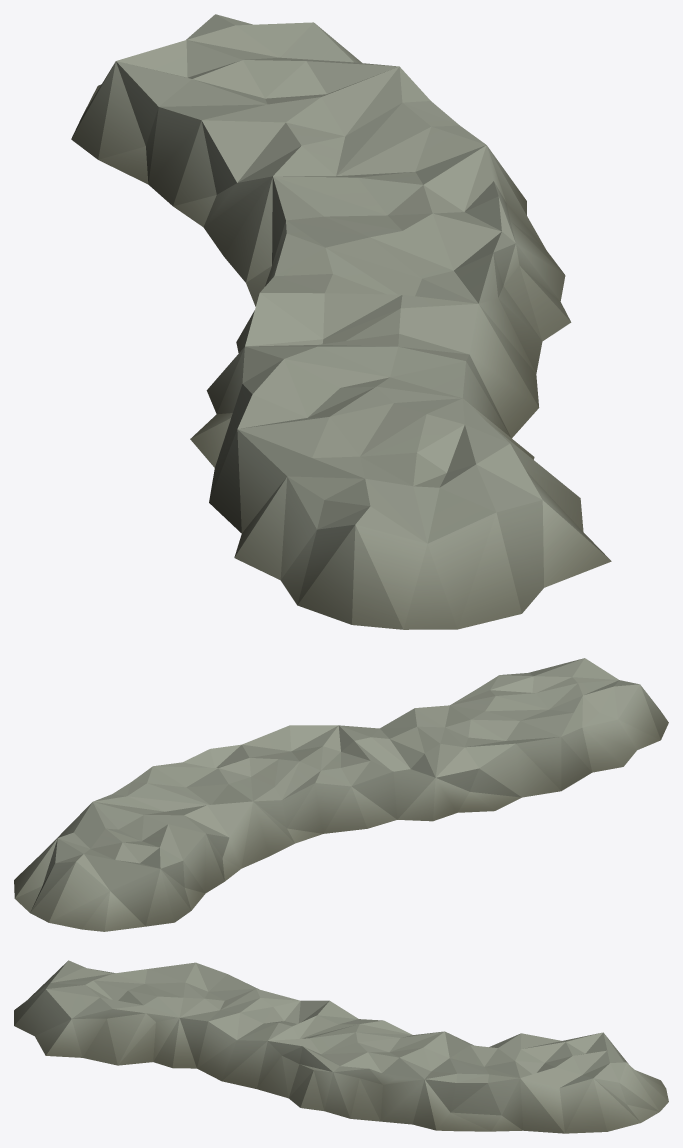
Rendered from ZLP_Road_A_6.FBX.
3 renders of one model, top to bottom at view 1: azimuth 30°, elevation 25°; view 2: azimuth 150°, elevation 25°; view 3: azimuth 270°, elevation 25°, orthographic. The views are drawn at different scales.
Visible parts, largest first — view 1: ZLP_Road_A_6; view 2: ZLP_Road_A_6; view 3: ZLP_Road_A_6.
Boxes of the visible parts, x1,y1,x2,y2 form: ZLP_Road_A_6: (71, 14, 611, 629); ZLP_Road_A_6: (14, 658, 668, 931); ZLP_Road_A_6: (14, 960, 668, 1133).
Bounding box in the file's own units: 398 × 57.07 × 753.
